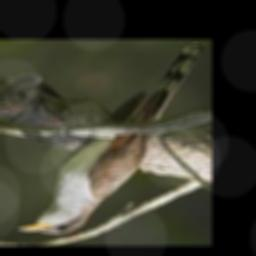Cuckoo: (16, 43, 201, 234)
